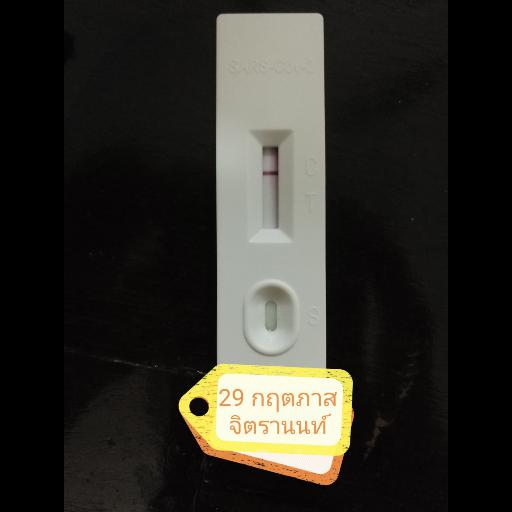Neg: (217, 13, 329, 369)
